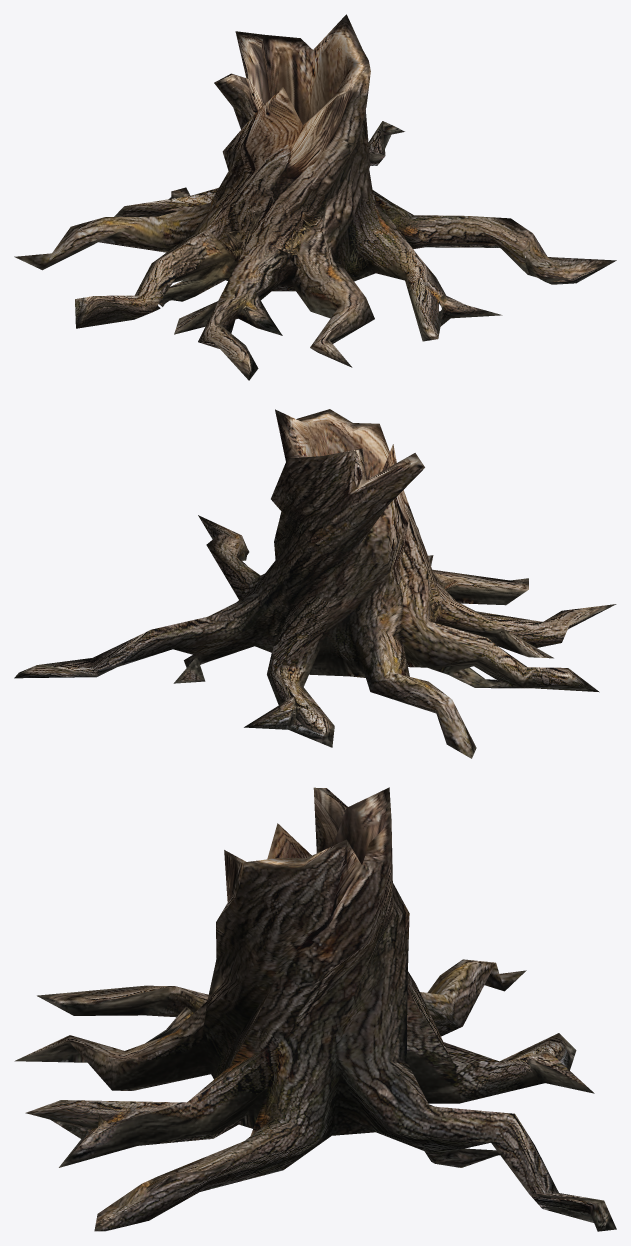
Rendered from oak_0_lod.glb.
3 renders of one model, top to bottom at view 1: azimuth 30°, elevation 25°; view 2: azimuth 150°, elevation 25°; view 3: azimuth 270°, elevation 25°, orthographic. The views are drawn at different scales.
Visible parts, largest first — view 1: oak; view 2: oak; view 3: oak.
Part boxes in pixels (x1,y1,x2,y2): oak: (14,14,616,380); oak: (14,409,616,758); oak: (14,787,616,1231).
Bounding box in the file's own units: 41.12 × 19.7 × 35.32.
Materials: 1 (1 with a texture image).
